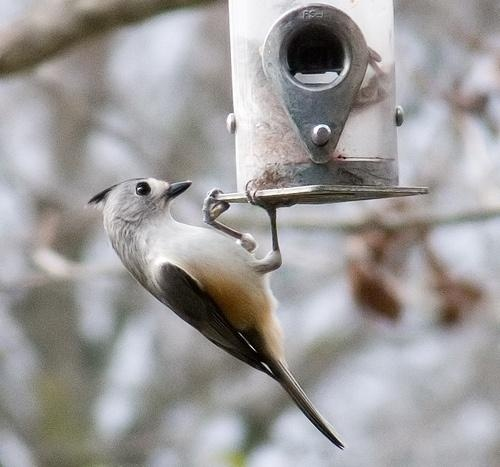bird: (86, 177, 350, 452)
